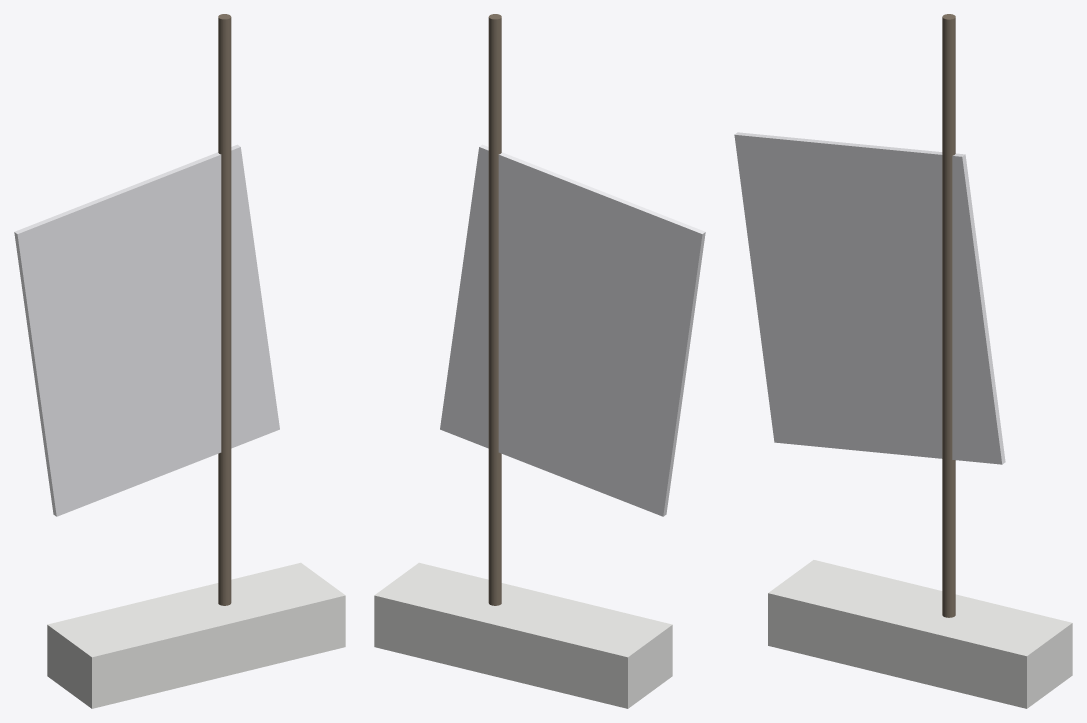
Rendered from sail_billboard.glb.
3 views of the same model, side by side, from view 1: azimuth 30°, elevation 25°; view 2: azimuth 150°, elevation 25°; view 3: azimuth 330°, elevation 25° (orthographic). The views are drawn at different scales.
Visible parts, largest first — view 1: sail_cloth, sail_hull, sail_mast; view 2: sail_cloth, sail_hull, sail_mast; view 3: sail_cloth, sail_hull, sail_mast.
Part boxes in pixels (box(x1,y1,x2,y2)): sail_cloth: box(14, 144, 279, 516); sail_hull: box(47, 562, 345, 708); sail_mast: box(218, 14, 231, 605); sail_cloth: box(440, 144, 705, 516); sail_hull: box(374, 562, 672, 708); sail_mast: box(488, 14, 501, 605); sail_cloth: box(734, 132, 1005, 464); sail_hull: box(768, 560, 1072, 708); sail_mast: box(942, 14, 955, 617).
Size of the model in its own units: 2.18 by 4.32 by 0.55.
